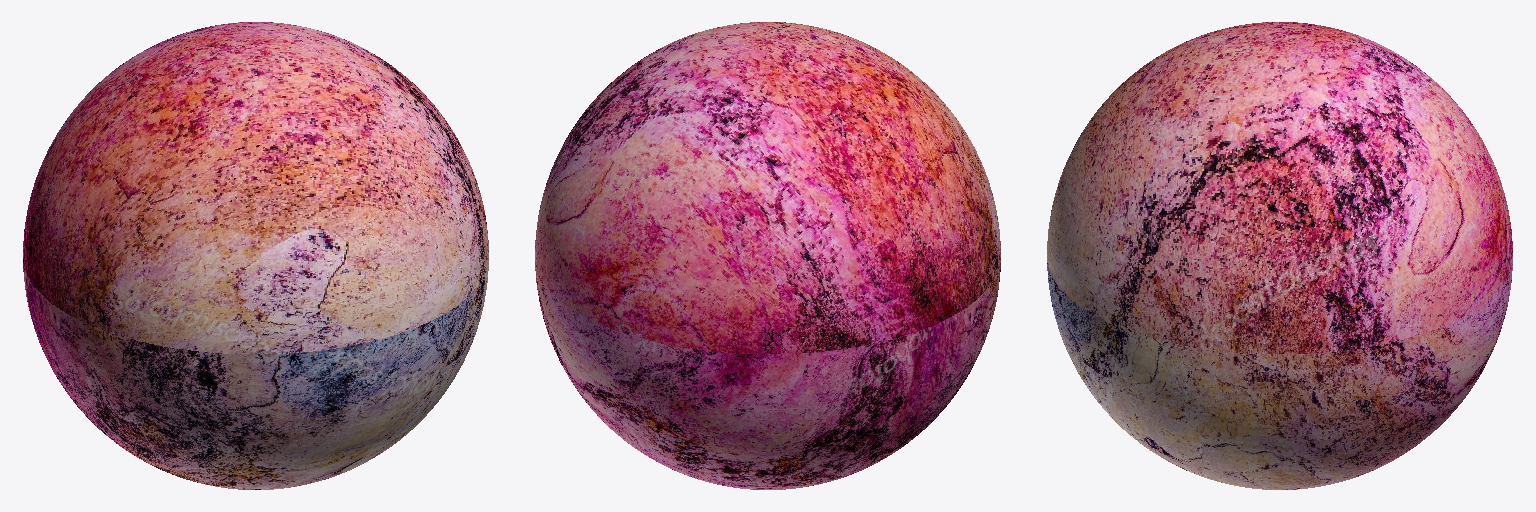
3 renders of one model, left to right at view 1: azimuth 30°, elevation 25°; view 2: azimuth 150°, elevation 25°; view 3: azimuth 270°, elevation 25°, orthographic.
Parts seen in each view (by area): view 1: Sphere; view 2: Sphere; view 3: Sphere.
Boxes of the visible parts, x1=… form: Sphere: x1=23, y1=22, x2=488, y2=489; Sphere: x1=535, y1=22, x2=1000, y2=489; Sphere: x1=1047, y1=22, x2=1512, y2=489.
Size of the model in its own units: 1.98 by 2 by 1.98.
Materials: 1 (1 with a texture image).